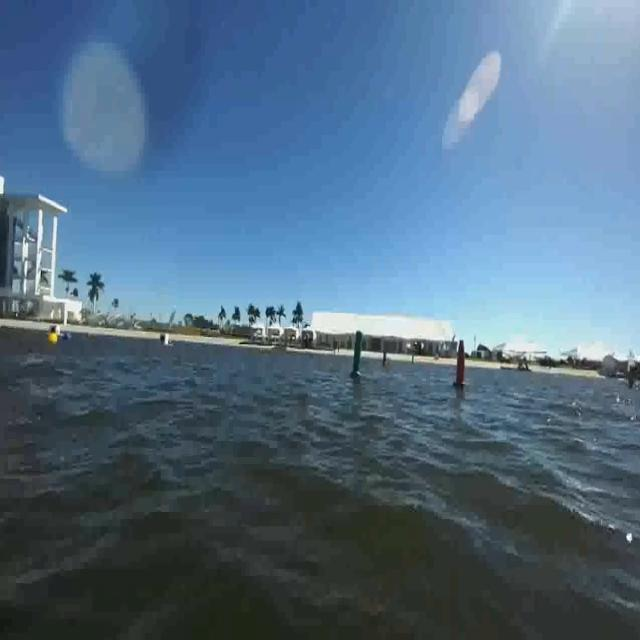green-column-buoy: (350, 328, 366, 378)
red-column-buoy: (452, 338, 466, 387)
yellow-duck: (48, 332, 58, 348)
